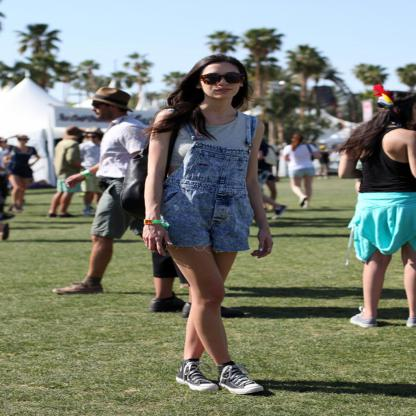face: (202, 64, 241, 100), (92, 102, 112, 120), (88, 135, 98, 143), (22, 138, 28, 144)
